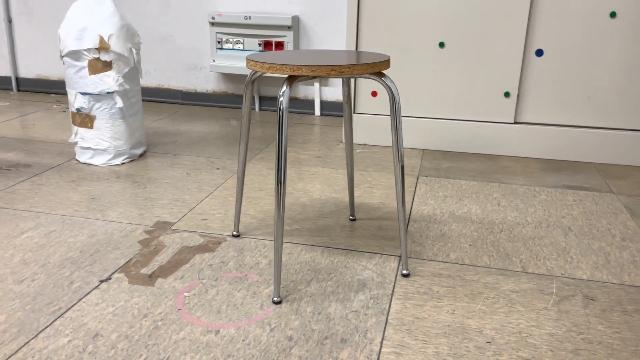Stool: (229, 44, 419, 312)
